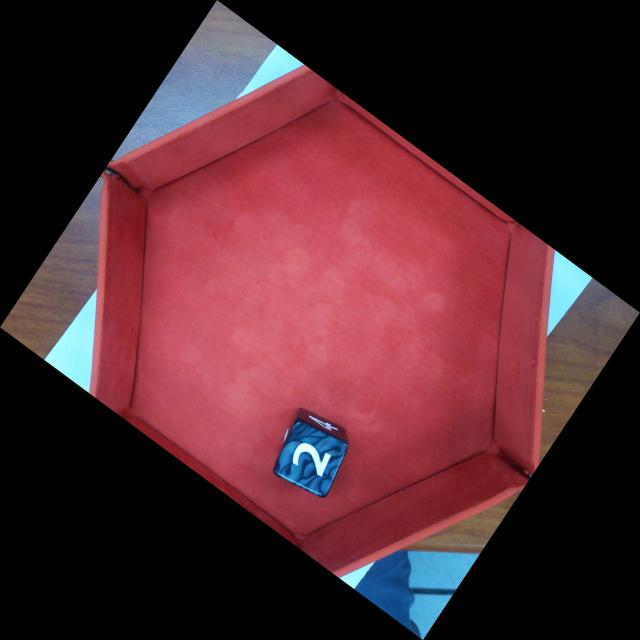dice: (271, 414, 351, 502)
